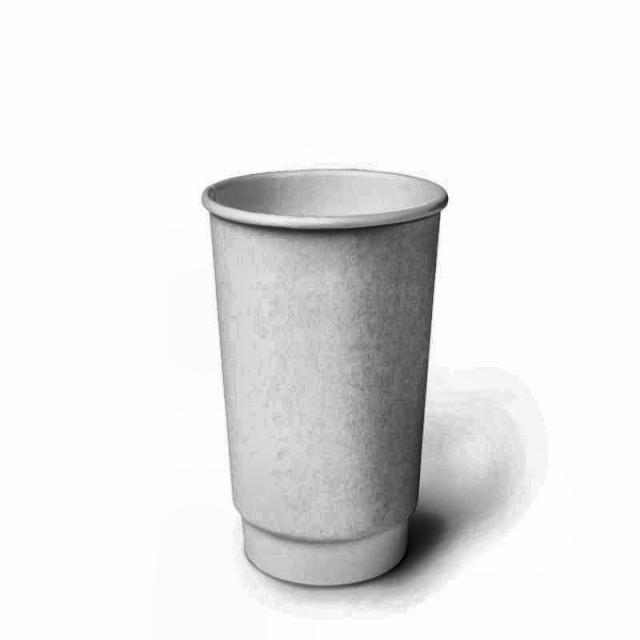Cup: (190, 129, 459, 600)
